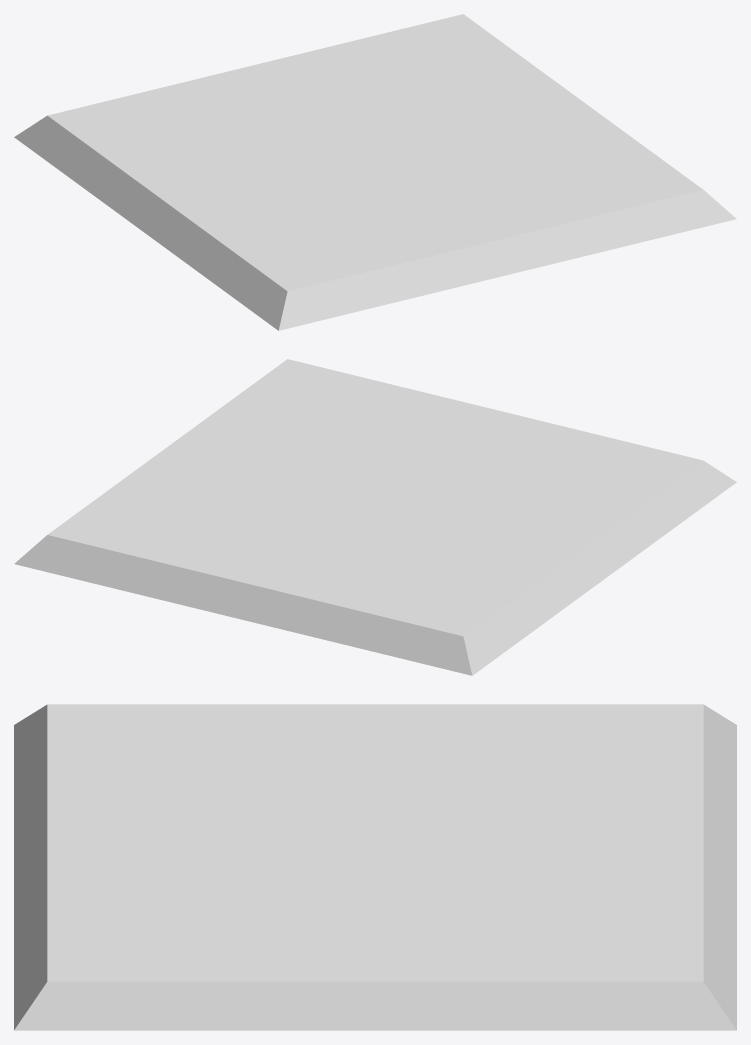
File: Target_Space.fbx
The picture shows the model from 3 angles, top to bottom: view 1: azimuth 30°, elevation 25°; view 2: azimuth 150°, elevation 25°; view 3: azimuth 270°, elevation 25°; orthographic projection. The views are drawn at different scales.
Parts seen in each view (by area): view 1: Target_Space; view 2: Target_Space; view 3: Target_Space.
Part boxes in pixels (box(x1,y1,x2,y2)): Target_Space: box(14, 14, 736, 330); Target_Space: box(14, 359, 736, 675); Target_Space: box(14, 704, 736, 1030).
Bounding box in the file's own units: 1 × 0.0531 × 1.
1 material, 1 textured.
